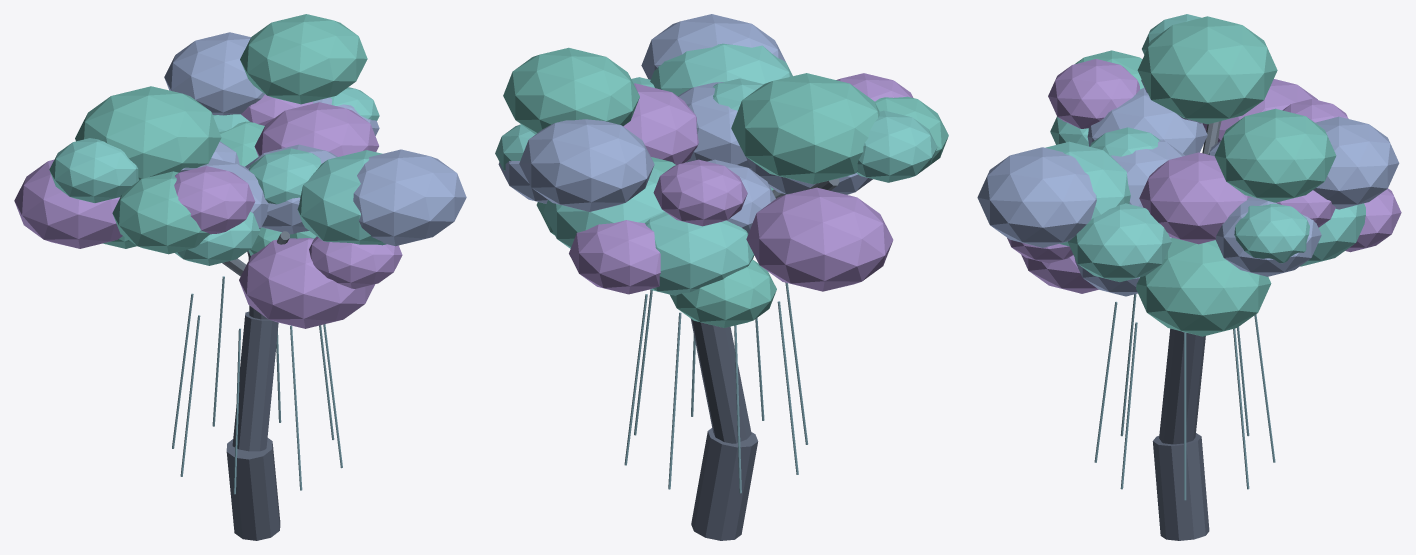
File: hexcore_living_tree_10.glb
3 views of the same model, side by side, from view 1: azimuth 30°, elevation 25°; view 2: azimuth 150°, elevation 25°; view 3: azimuth 270°, elevation 25° (orthographic). The views are drawn at different scales.
Parts seen in each view (by area): view 1: world; view 2: world; view 3: world.
Part boxes in pixels (box(x1,y1,x2,y2)): world: box(14, 14, 466, 540); world: box(495, 14, 948, 540); world: box(977, 14, 1401, 540).
Size of the model in its own units: 21.68 by 26.09 by 21.6.
